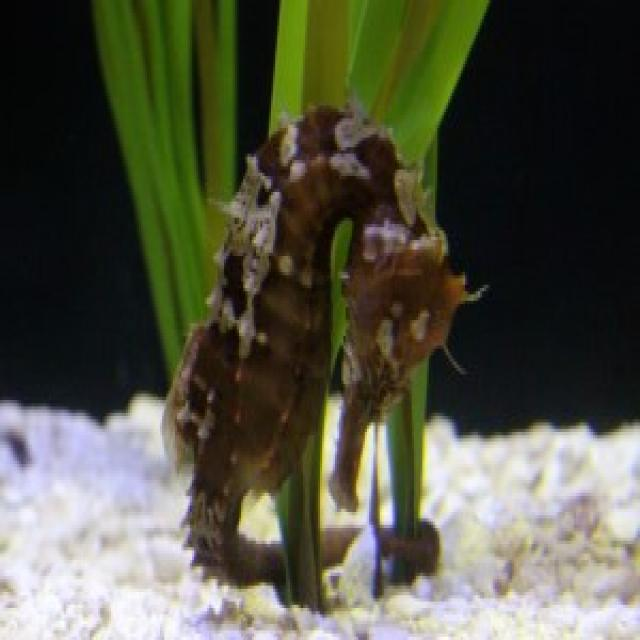Seahorse: (158, 96, 470, 602)
